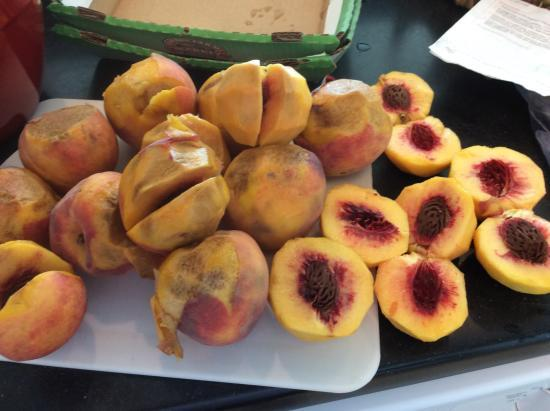Peach Ripe: (151, 231, 266, 352)
